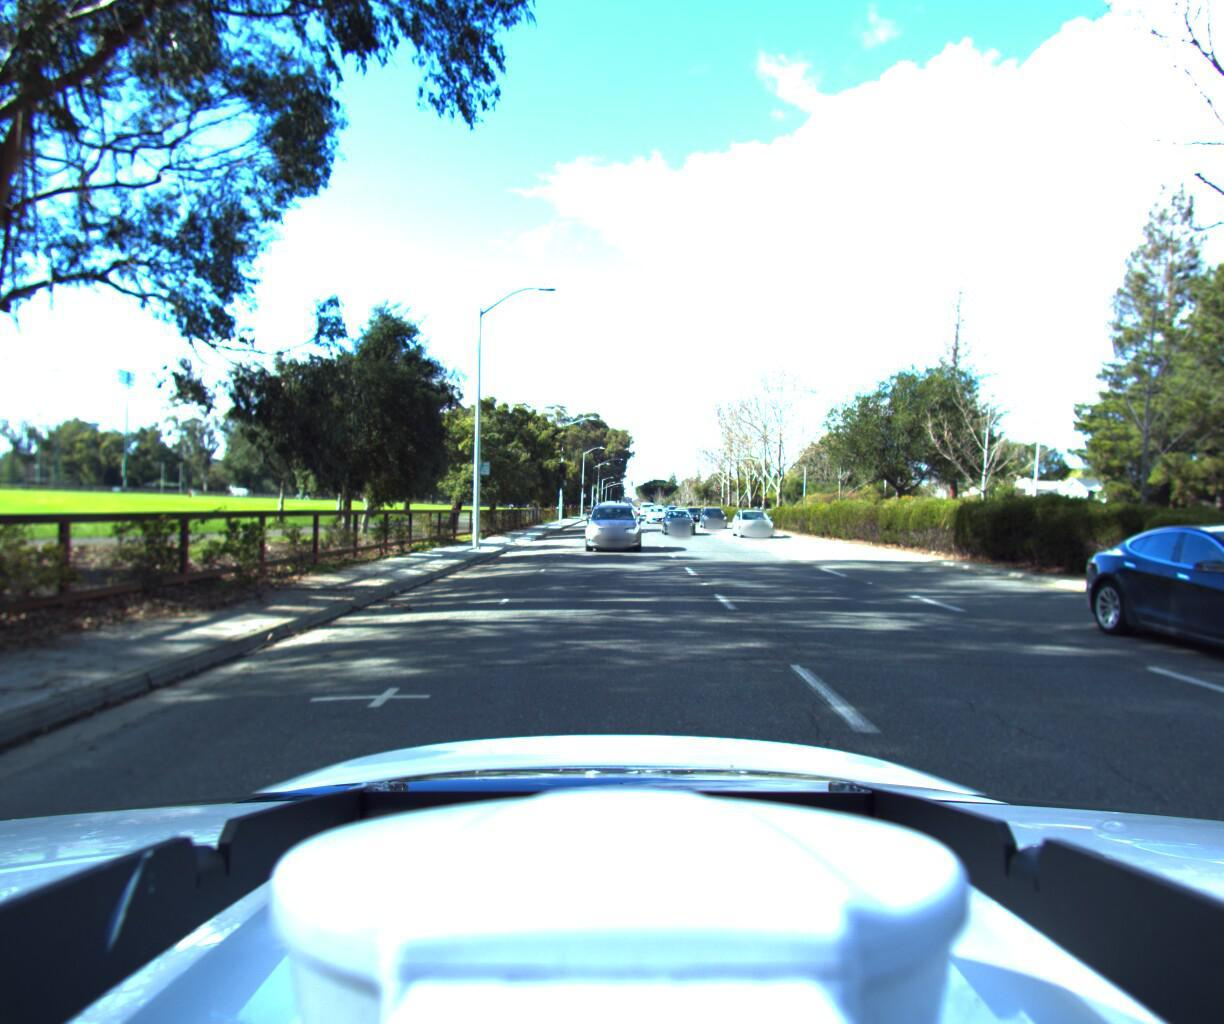car: (1112, 514, 1224, 763), (582, 498, 641, 553), (733, 509, 782, 540), (662, 509, 702, 538), (701, 505, 734, 529), (644, 506, 666, 523)
